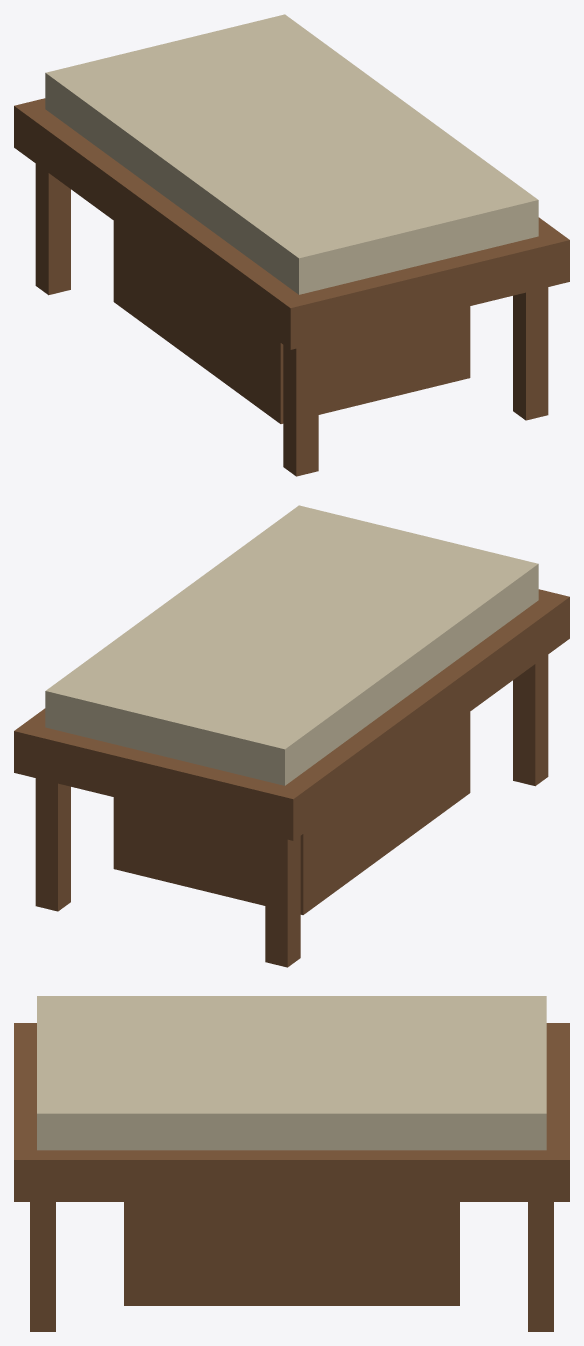
File: SM_Module_CrewBerth.glb
3 renders of one model, top to bottom at view 1: azimuth 30°, elevation 25°; view 2: azimuth 150°, elevation 25°; view 3: azimuth 270°, elevation 25°, orthographic.
Parts seen in each view (by area): view 1: SM_Module_CrewBerth; view 2: SM_Module_CrewBerth; view 3: SM_Module_CrewBerth.
Part boxes in pixels (<box>): SM_Module_CrewBerth: <box>14,14,569,476</box>; SM_Module_CrewBerth: <box>14,505,569,967</box>; SM_Module_CrewBerth: <box>14,996,569,1331</box>.
Size of the model in its own units: 0.56 by 0.41 by 0.96.
